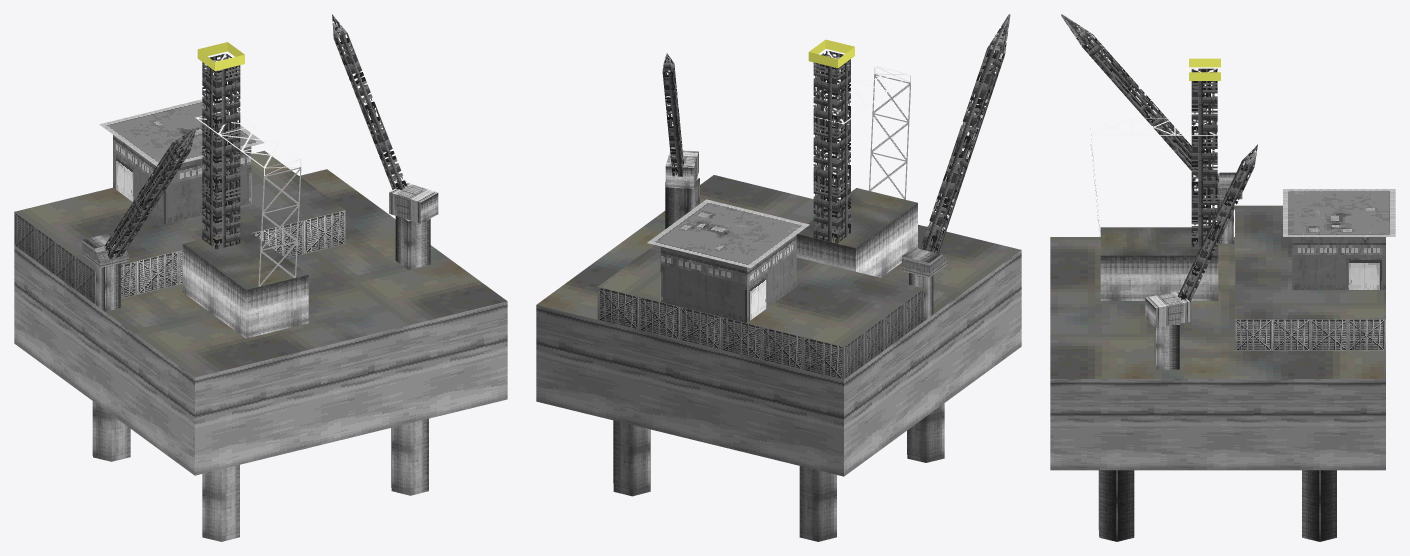
File: uvmd-0161.glb
The picture shows the model from 3 angles, left to right: view 1: azimuth 30°, elevation 25°; view 2: azimuth 150°, elevation 25°; view 3: azimuth 270°, elevation 25°; orthographic projection. The views are drawn at different scales.
Parts seen in each view (by area): view 1: uvmd-0161; view 2: uvmd-0161; view 3: uvmd-0161.
Boxes of the visible parts, x1,y1,x2,y2 form: uvmd-0161: (14,14,507,541); uvmd-0161: (536,14,1021,541); uvmd-0161: (1050,14,1395,541).
Bounding box in the file's own units: 721 × 939 × 720.
Materials: 10 (10 with a texture image).
